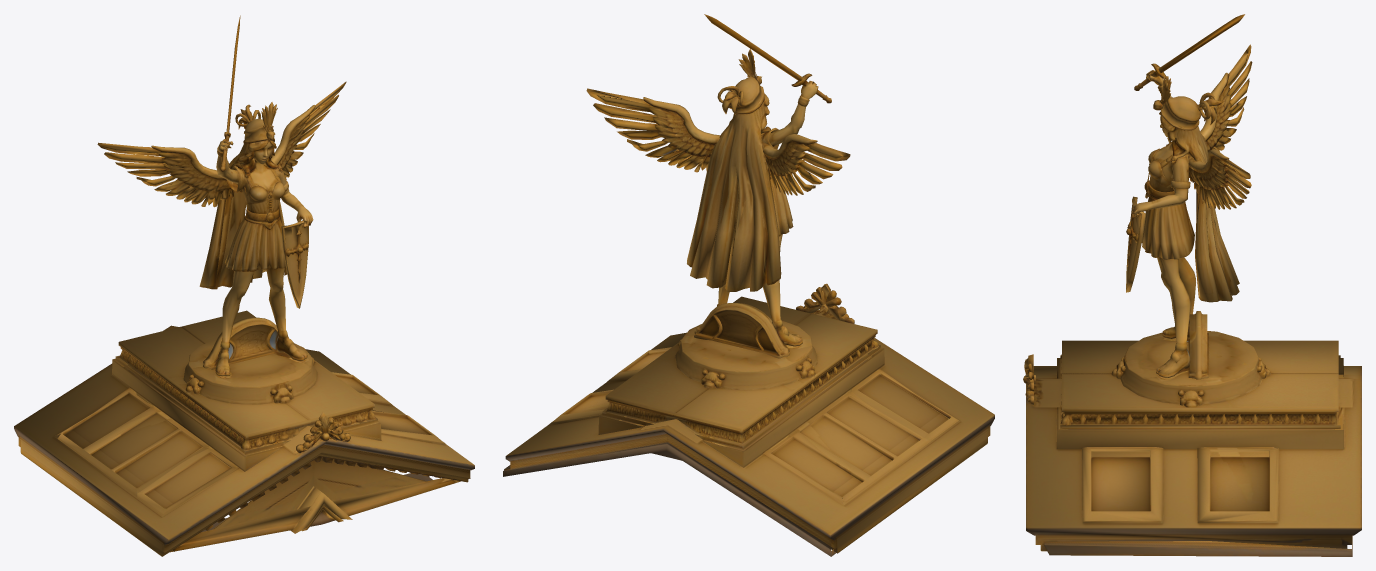
File: estatua_alada.glb
3 views of the same model, side by side, from view 1: azimuth 30°, elevation 25°; view 2: azimuth 150°, elevation 25°; view 3: azimuth 270°, elevation 25° (orthographic). The views are drawn at different scales.
Visible parts, largest first — view 1: estatua_alada; view 2: estatua_alada; view 3: estatua_alada.
Part boxes in pixels (x1,y1,x2,y2): estatua_alada: (14,15,474,556); estatua_alada: (503,14,994,556); estatua_alada: (1023,14,1361,556).
Size of what is drawn, in the model's own units: 1.87 by 2.5 by 1.63.
1 material, 1 textured.
